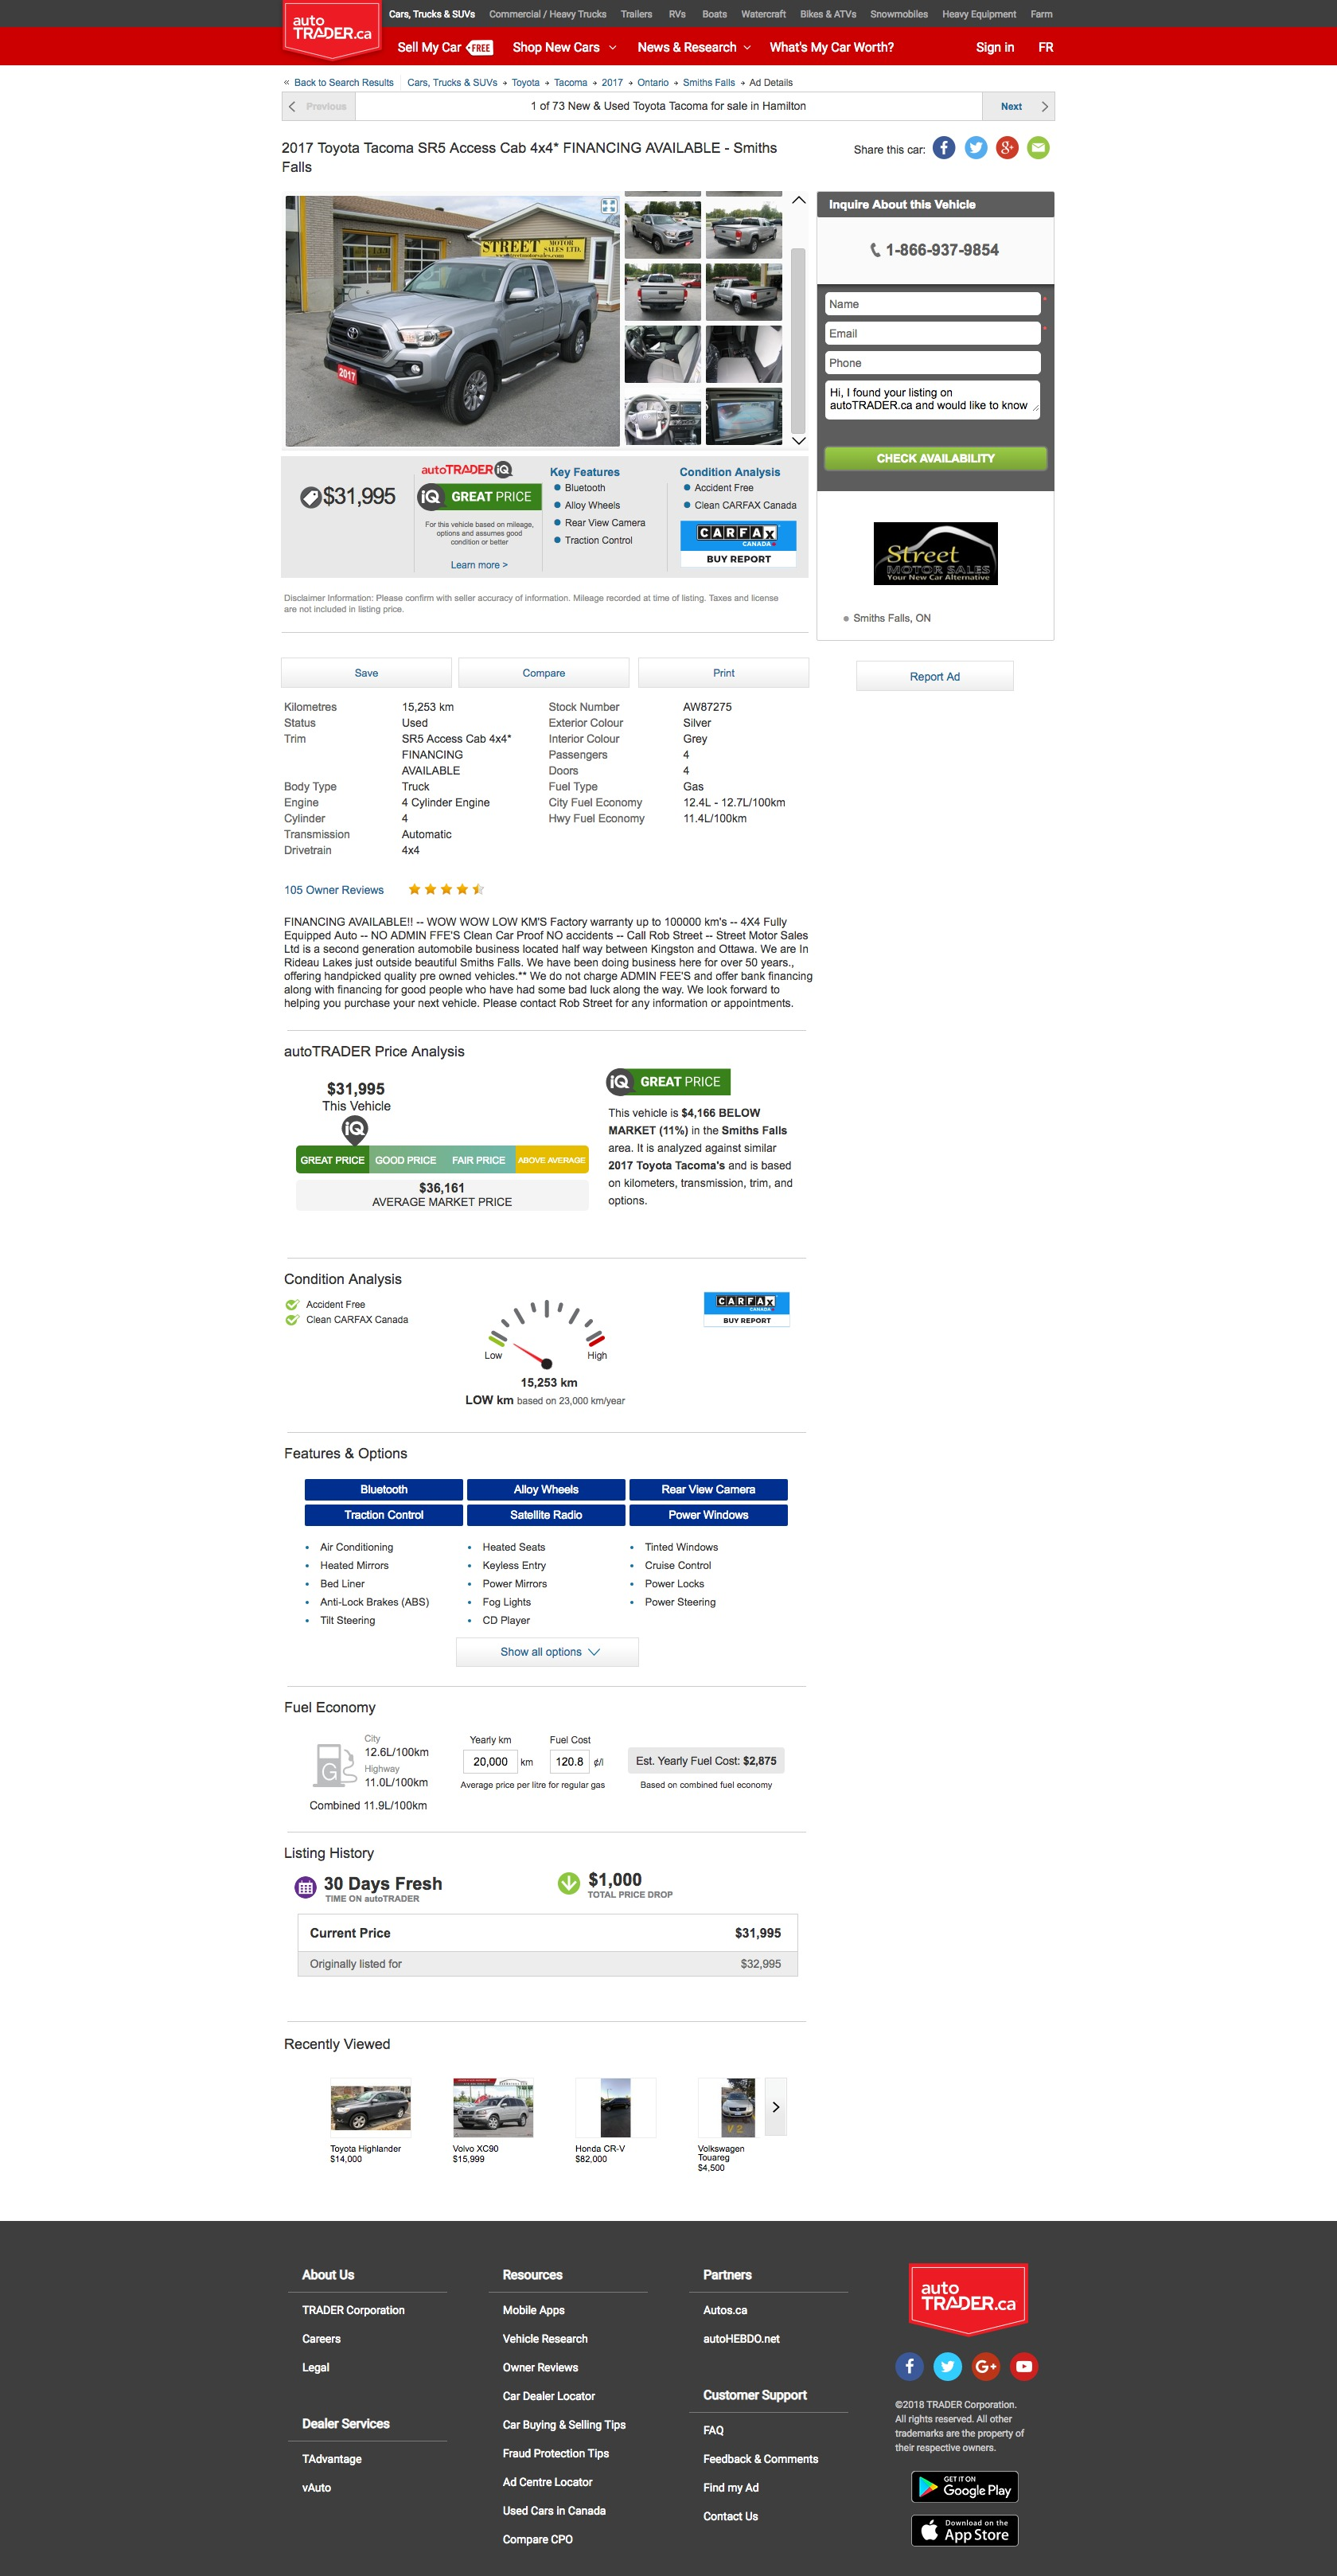car: (790, 436, 809, 448)
